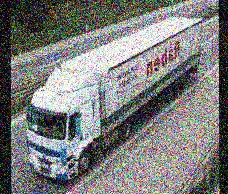truck: (23, 17, 203, 182)
